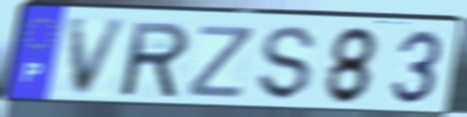3: (389, 28, 444, 108)
8: (322, 24, 381, 107)
R: (120, 20, 192, 101)
S: (256, 24, 319, 104)
V: (66, 17, 132, 100)
Z: (184, 23, 259, 101)
